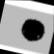correct: (17, 16, 48, 46)
